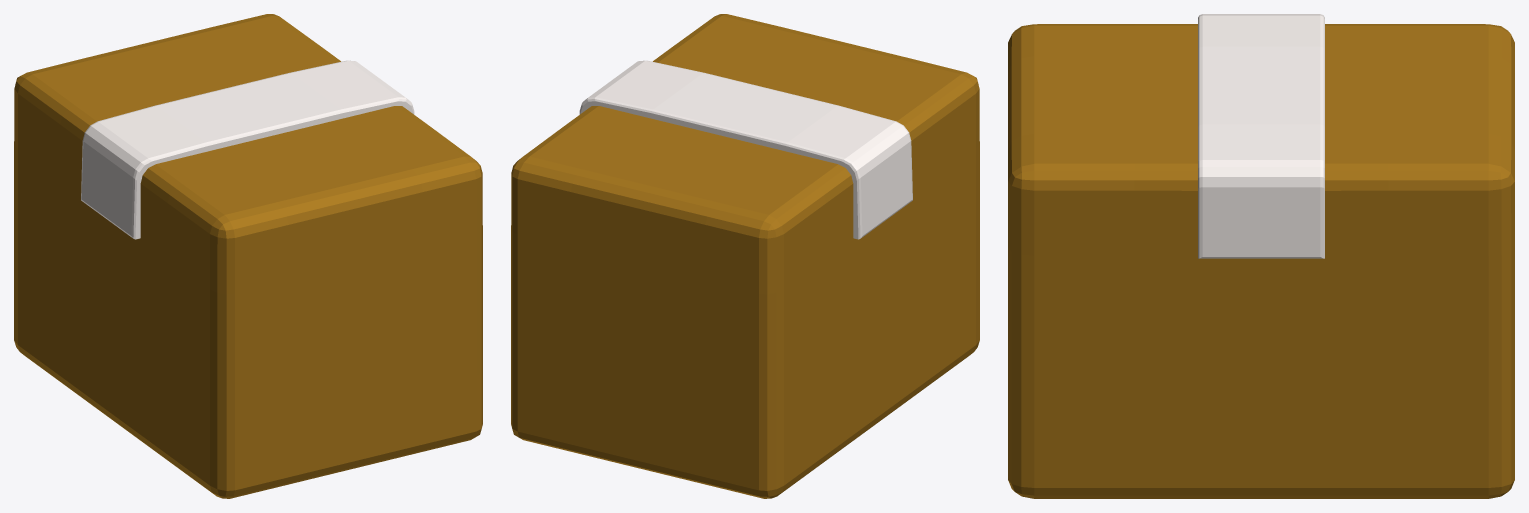
The model's file is Receipt master box.fbx.
The picture shows the model from 3 angles, left to right: view 1: azimuth 30°, elevation 25°; view 2: azimuth 150°, elevation 25°; view 3: azimuth 270°, elevation 25°; orthographic projection. The views are drawn at different scales.
Visible parts, largest first — view 1: Cube; view 2: Cube; view 3: Cube.
Boxes of the visible parts, x1,y1,x2,y2 form: Cube: [14, 14, 482, 498]; Cube: [511, 14, 979, 498]; Cube: [1008, 14, 1514, 498].
Size of the model in its own units: 170 by 165 by 222.
